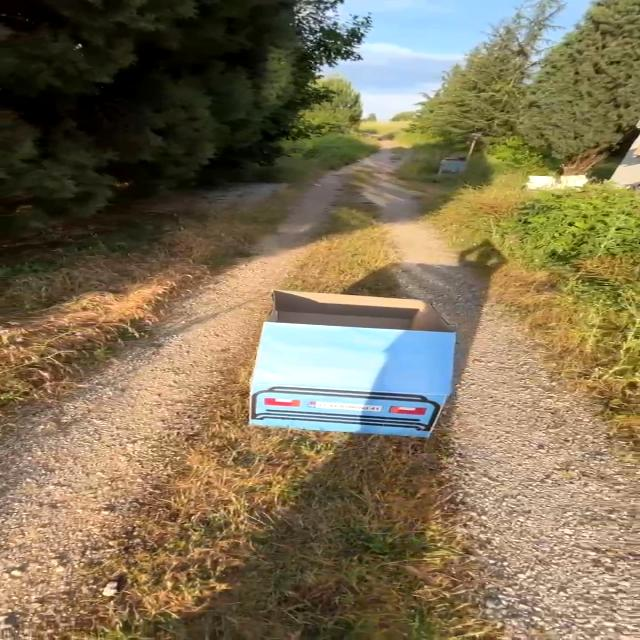blue_car: (202, 256, 500, 452)
